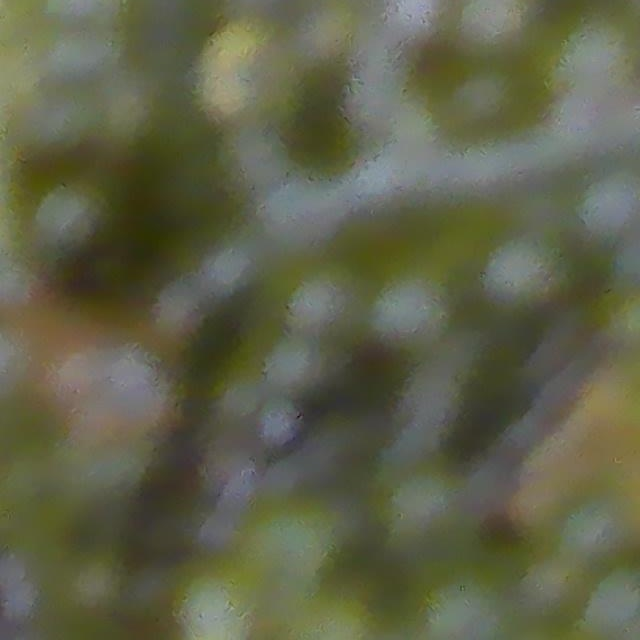SeaGrape: (373, 461, 475, 557), (364, 248, 459, 349), (553, 8, 640, 98), (481, 230, 567, 316), (284, 254, 368, 339), (33, 174, 114, 253), (554, 490, 635, 567), (453, 0, 541, 61), (577, 165, 640, 242), (582, 560, 640, 639), (263, 332, 331, 398)
